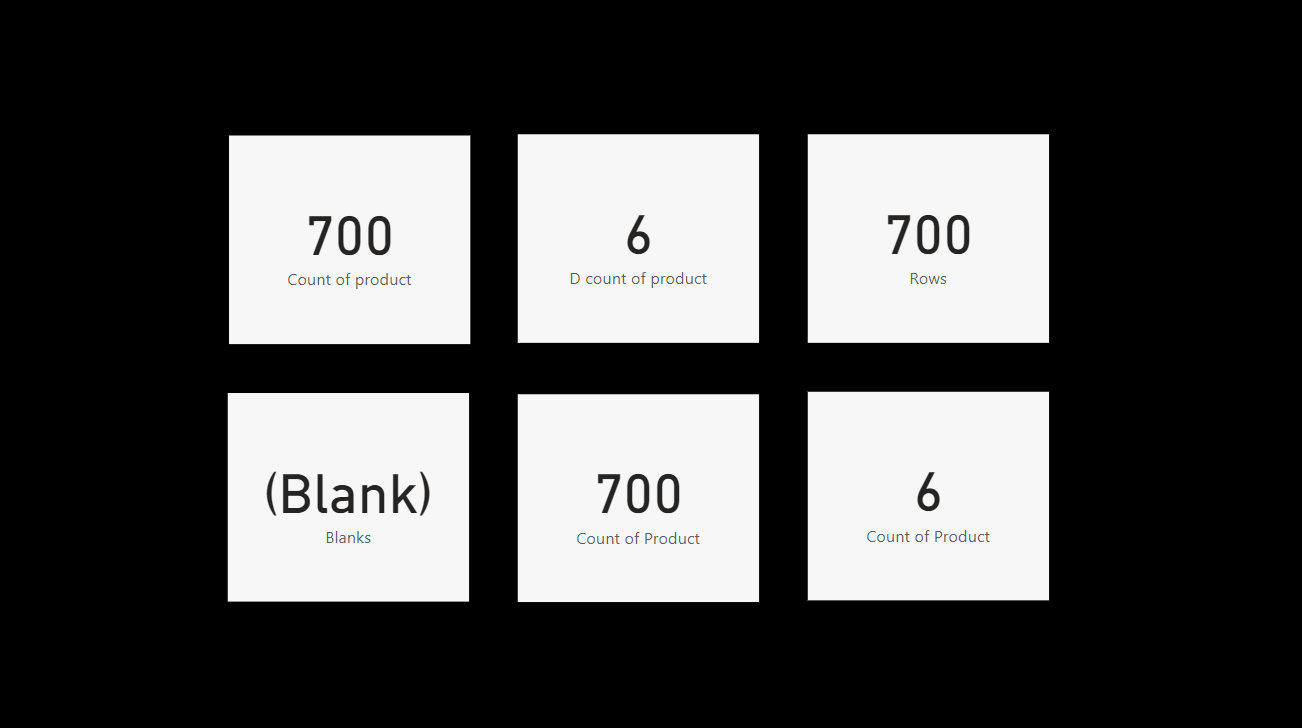

The page's visual inventory and layout, read from the dashboard file:
{"tool":"powerbi","page":{"name":"Page 3","canvas":[1280,720],"ordinal":2},"visuals":[{"type":"card","fields":{"Values":["Orders.Count of product"]},"box":[224.9,139.4,235.9,204.1],"z":0},{"type":"card","fields":{"Values":["CountNonNull(Orders.Product)"]},"box":[507.3,392.4,235.9,202.9],"z":1000},{"type":"card","fields":{"Values":["Orders.D count of product"]},"box":[507.3,138.1,235.9,204.1],"z":2000},{"type":"card","fields":{"Values":["Count(Orders.Product)"]},"box":[790.9,389.9,235.9,204.1],"z":3000},{"type":"card","fields":{"Values":["Orders.Rows"]},"box":[790.9,138.1,235.9,204.1],"z":4000},{"type":"card","fields":{"Values":["Orders.Blanks"]},"box":[223.7,391.2,235.9,204.1],"z":5000}]}

Visuals, with their boxes in screenshot pixels (x1, y1, x2, y2), scaled from the page's 1280x720 canvas onto the 1302x728 screenshot:
card - Orders.Count of product: box(229, 141, 469, 347)
card - CountNonNull(Orders.Product): box(516, 397, 756, 602)
card - Orders.D count of product: box(516, 140, 756, 346)
card - Count(Orders.Product): box(804, 394, 1044, 601)
card - Orders.Rows: box(804, 140, 1044, 346)
card - Orders.Blanks: box(228, 396, 467, 602)
